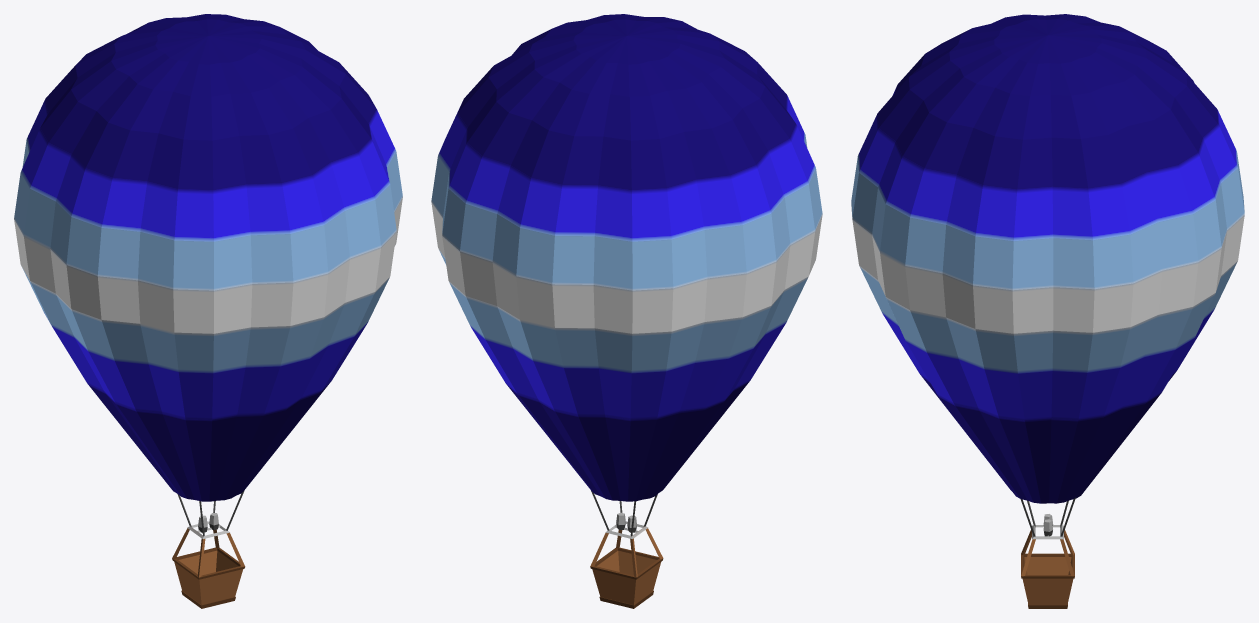
3 renders of one model, left to right at view 1: azimuth 30°, elevation 25°; view 2: azimuth 150°, elevation 25°; view 3: azimuth 270°, elevation 25°, orthographic.
Parts seen in each view (by area): view 1: Hot Air Balloon; view 2: Hot Air Balloon; view 3: Hot Air Balloon.
Part boxes in pixels (x1,y1,x2,y2): Hot Air Balloon: [14, 14, 402, 608]; Hot Air Balloon: [431, 14, 822, 608]; Hot Air Balloon: [851, 14, 1244, 608].
Bounding box in the file's own units: 11.56 × 18.57 × 11.72.
1 material, 1 textured.
